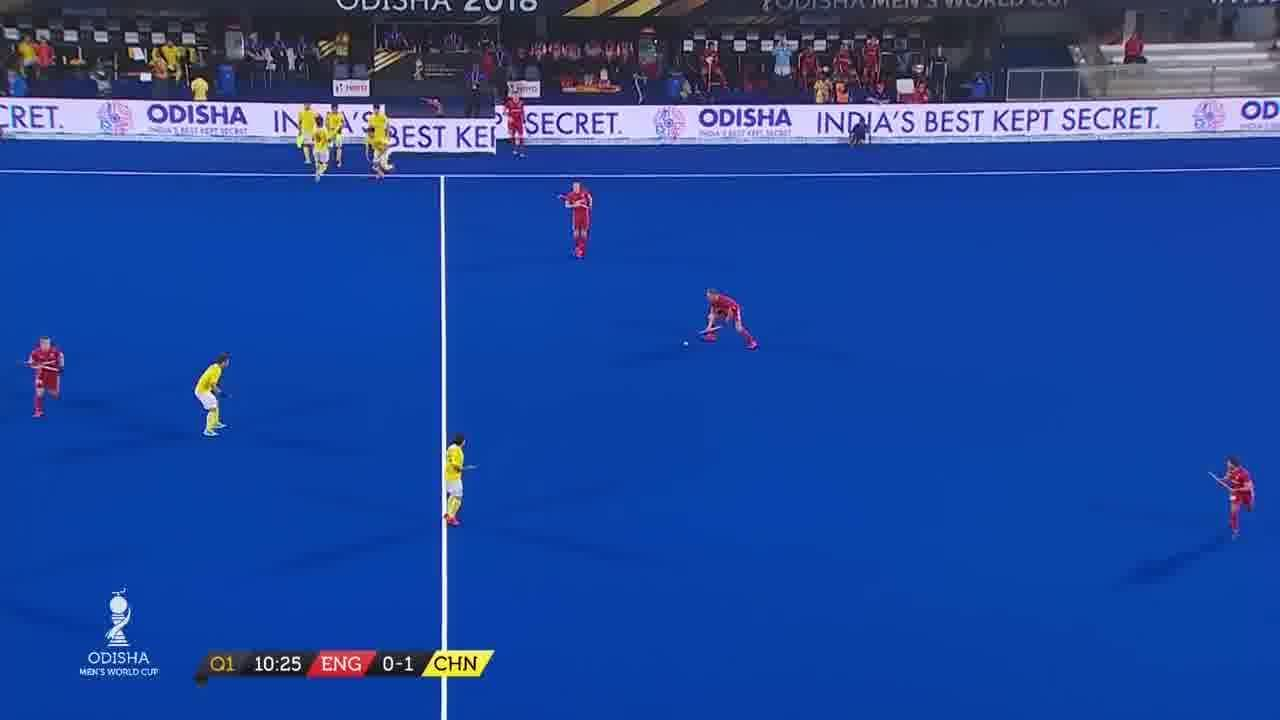ball: (682, 339, 692, 349)
